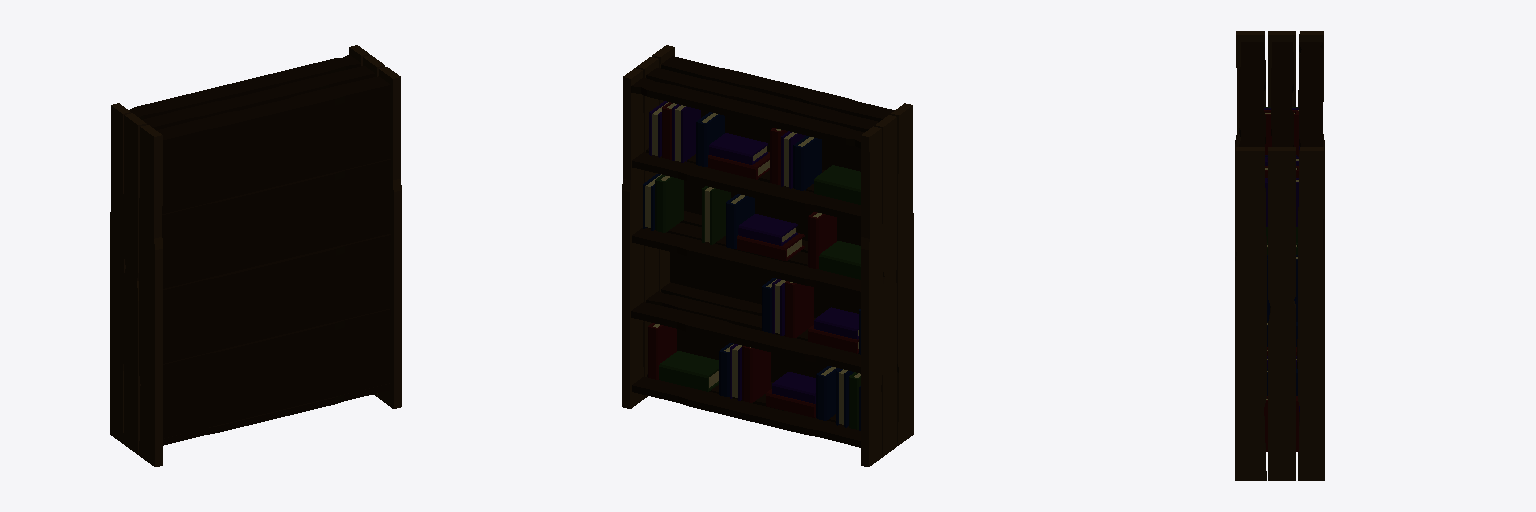
The model's file is Bookcase_Full.obj.
3 renders of one model, left to right at view 1: azimuth 30°, elevation 25°; view 2: azimuth 150°, elevation 25°; view 3: azimuth 270°, elevation 25°, orthographic.
Parts seen in each view (by area): view 1: Bookcase_Full; view 2: Bookcase_Full; view 3: Bookcase_Full.
Boxes of the visible parts, <box> form: Bookcase_Full: <box>110,45,401,466</box>; Bookcase_Full: <box>622,45,913,466</box>; Bookcase_Full: <box>1235,31,1324,480</box>.
Bounding box in the file's own units: 2.08 × 2.65 × 0.6582.